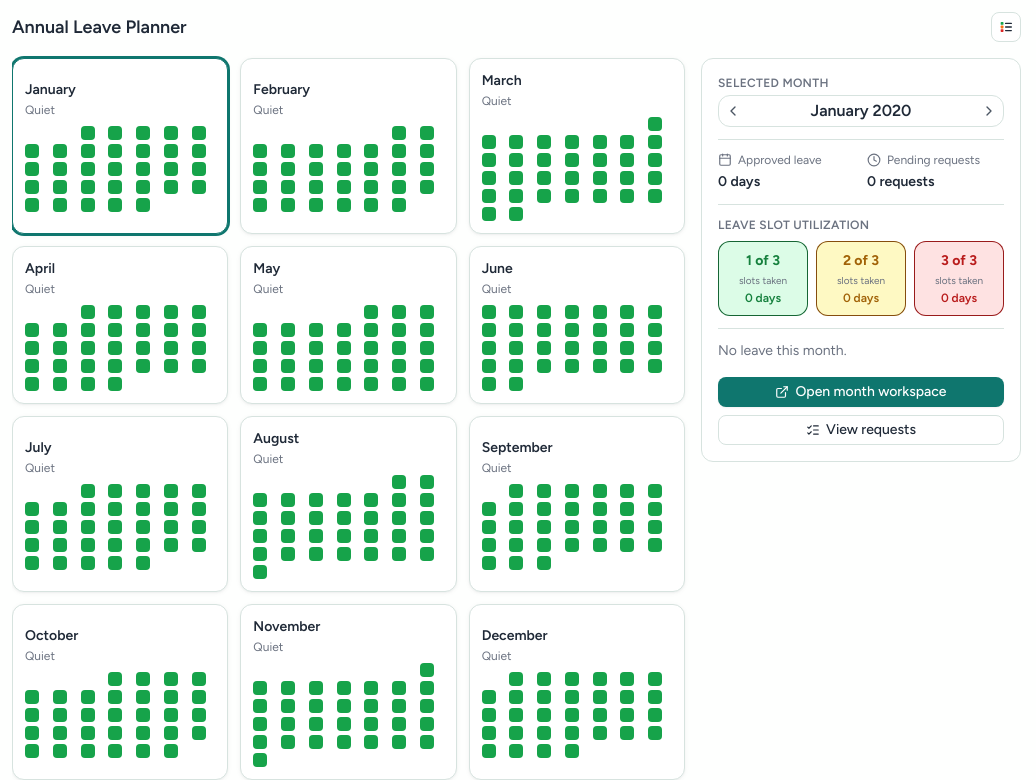
Test case: AnnualPlannerOverview — non-admin mobile category finder › the Selected month panel has its own chevrons for stepping through months
expect the button "January 2020" is shown: met, box [747, 99, 975, 123]
What coordinates should you click on to do the following:
click the button named "Next month"
I would click on:
 (989, 111)
Its box is [975, 96, 1003, 126].
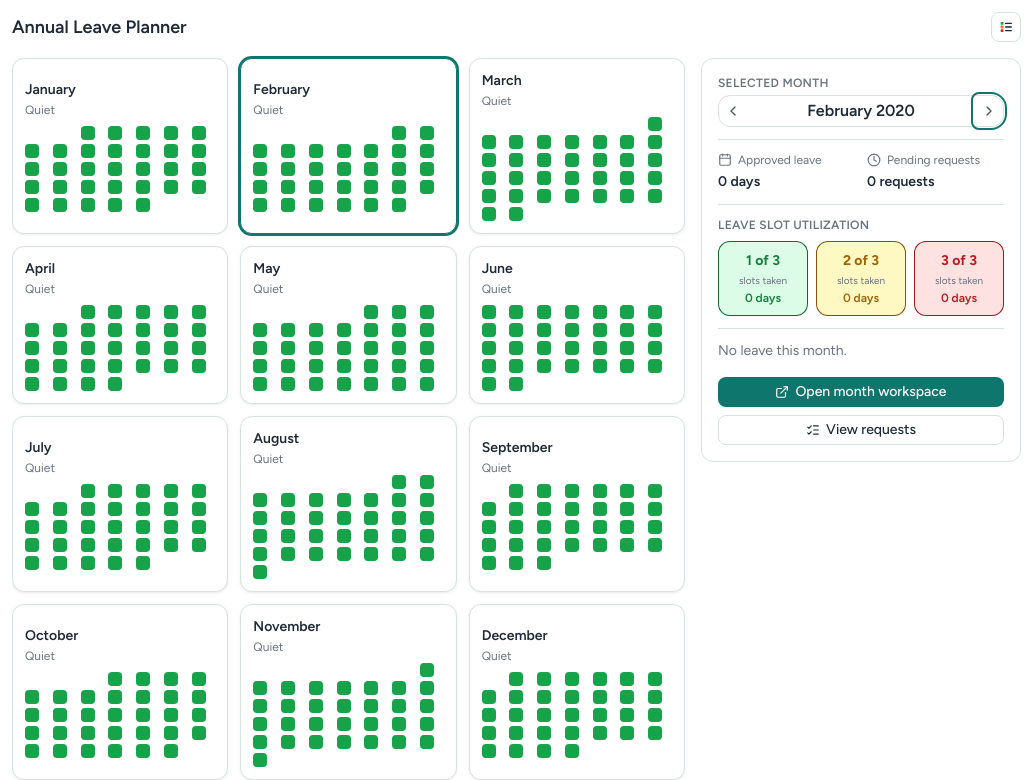
expect the button "February 2020" is shown: met, box [747, 99, 975, 123]
